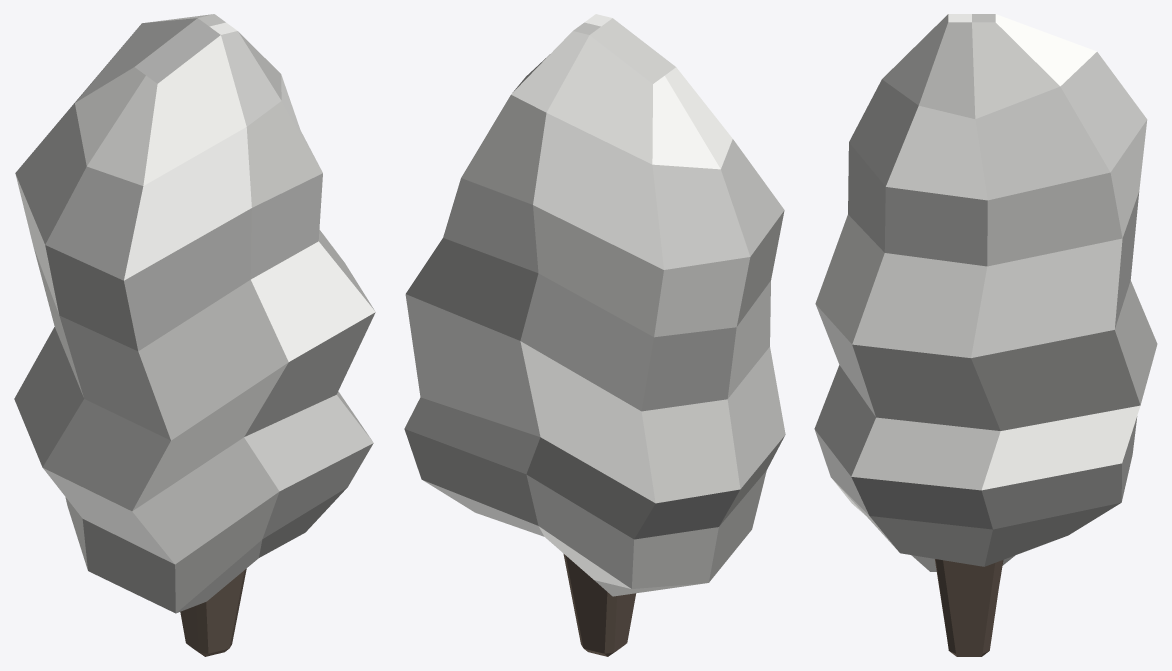
File: Tree_2_White.fbx
3 renders of one model, left to right at view 1: azimuth 30°, elevation 25°; view 2: azimuth 150°, elevation 25°; view 3: azimuth 270°, elevation 25°, orthographic. The views are drawn at different scales.
Visible parts, largest first — view 1: Tree_2_White_Part_2, Tree_2_White_Part_3, Tree_2_White_Part_1; view 2: Tree_2_White_Part_2, Tree_2_White_Part_3, Tree_2_White_Part_1; view 3: Tree_2_White_Part_2, Tree_2_White_Part_3, Tree_2_White_Part_1.
Part boxes in pixels (x1,y1,x2,y2): Tree_2_White_Part_2: (14, 14, 375, 613); Tree_2_White_Part_3: (15, 14, 375, 613); Tree_2_White_Part_1: (180, 568, 246, 656); Tree_2_White_Part_2: (404, 18, 785, 596); Tree_2_White_Part_3: (404, 14, 784, 588); Tree_2_White_Part_1: (563, 553, 635, 656); Tree_2_White_Part_2: (814, 14, 1157, 566); Tree_2_White_Part_3: (815, 14, 1147, 571); Tree_2_White_Part_1: (935, 559, 1003, 656).
Bounding box in the file's own units: 237 × 483 × 235.
